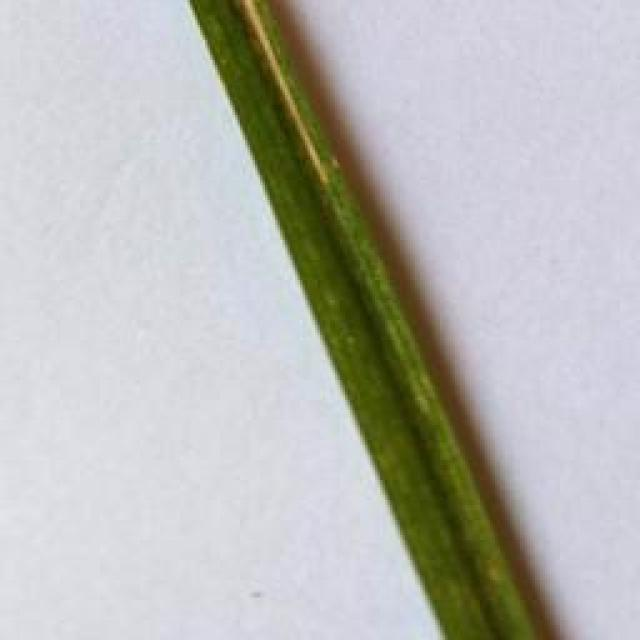Bacterial_Blight: (221, 0, 347, 184)
